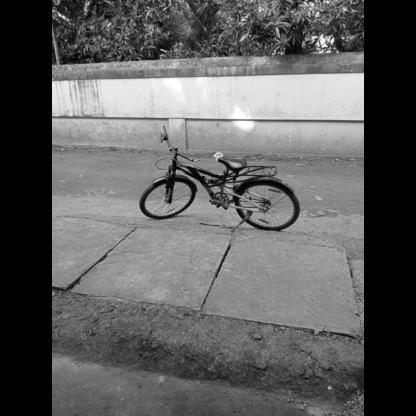Bicycle: (131, 124, 306, 243)
